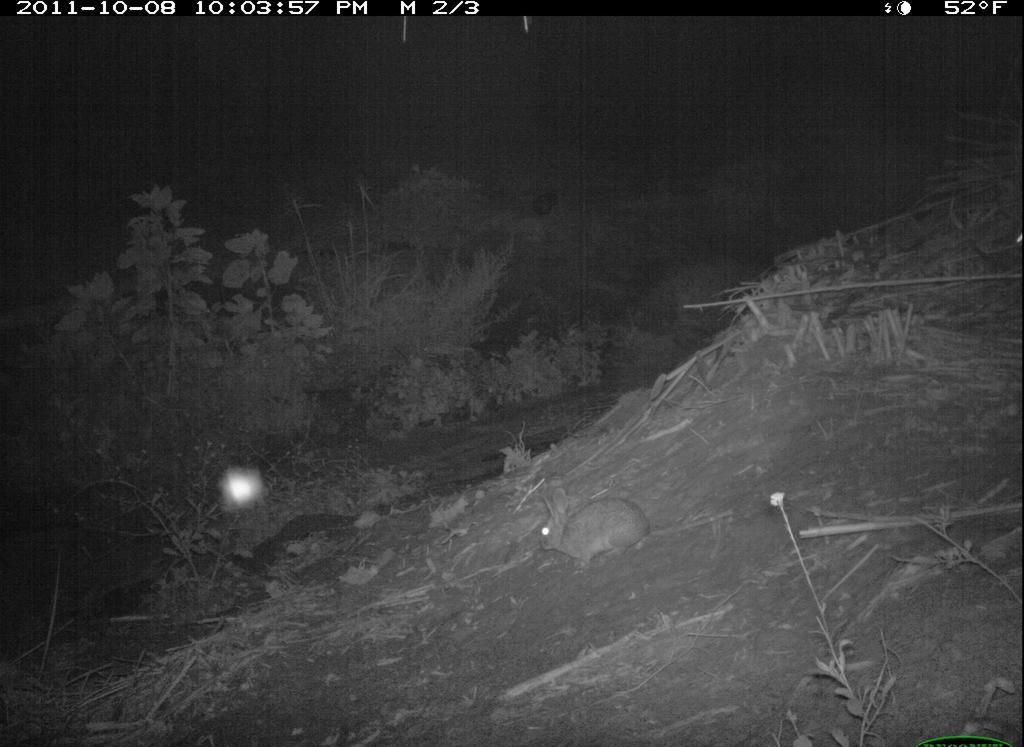rabbit: (529, 470, 660, 573)
